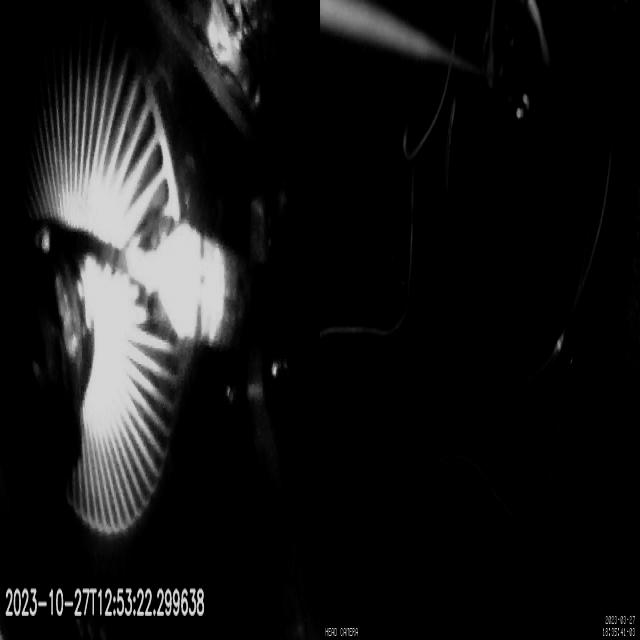head: (156, 224, 249, 358)
